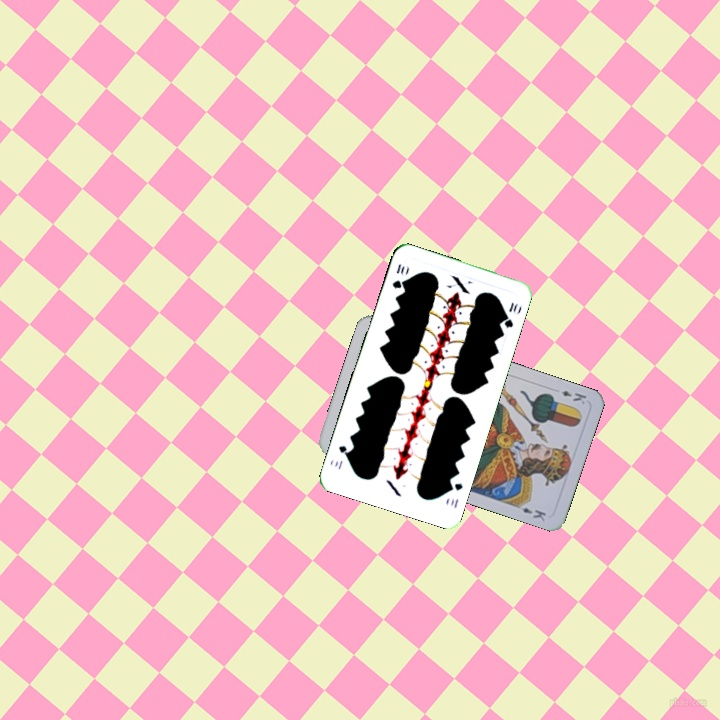EK: (557, 386, 589, 407)
G10: (444, 478, 465, 511), (388, 260, 407, 291)
